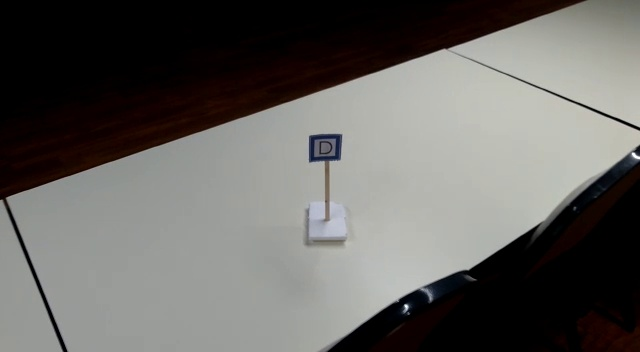durak: (309, 133, 342, 163)
